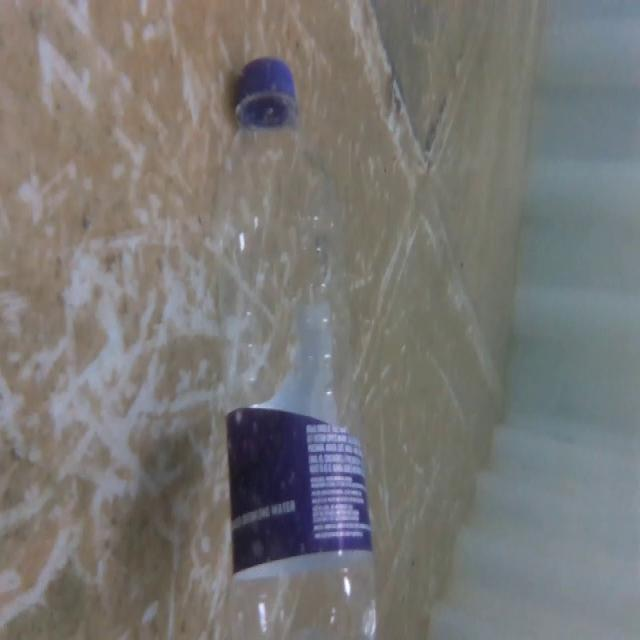plastic bottle: (205, 43, 378, 640)
